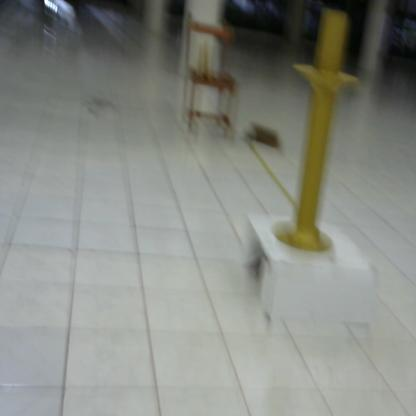pole: (267, 1, 367, 264)
